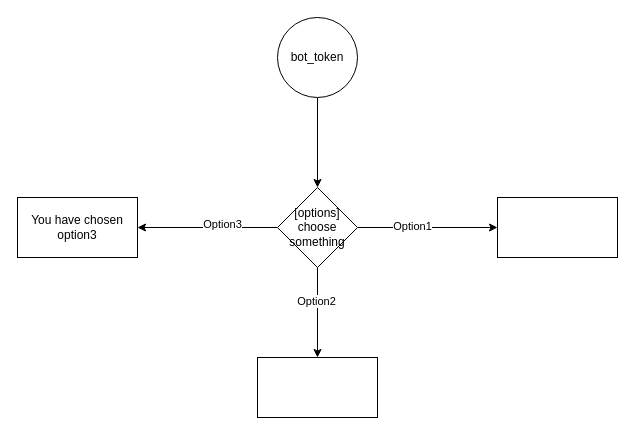
Image size: 635x435. Some labels were removed from this diagram. Here are the shapes that lost their labels. From the top down, the centre of each, then its label:
At point 557,227: "You have chosen option1".
At point 317,387: "You have chosen option2".
